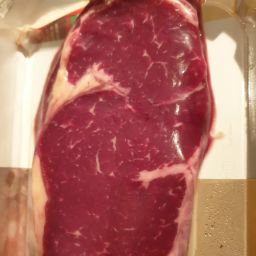Beef: (5, 3, 223, 256), (23, 3, 216, 256), (16, 1, 220, 193), (8, 164, 199, 256)
